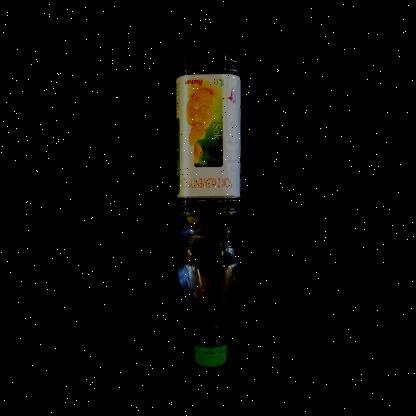Plastic Bottle: (175, 32, 240, 367)
